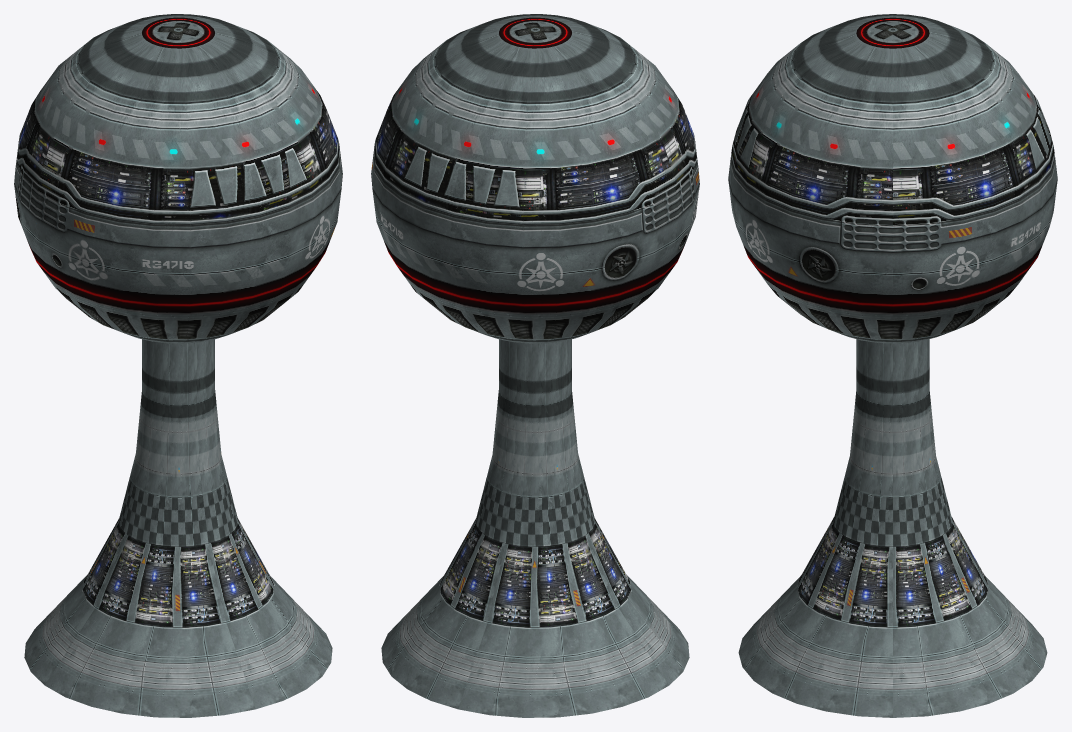
The model's file is pbwtow00.FBX.
3 renders of one model, left to right at view 1: azimuth 30°, elevation 25°; view 2: azimuth 150°, elevation 25°; view 3: azimuth 270°, elevation 25°, orthographic.
Visible parts, largest first — view 1: mainbody; view 2: mainbody; view 3: mainbody.
Boxes of the visible parts, <box> form: mainbody: <box>14,14,342,717</box>; mainbody: <box>371,14,699,717</box>; mainbody: <box>728,14,1057,717</box>.
Size of what is drawn, in the model's own units: 10 by 10 by 20.98.
